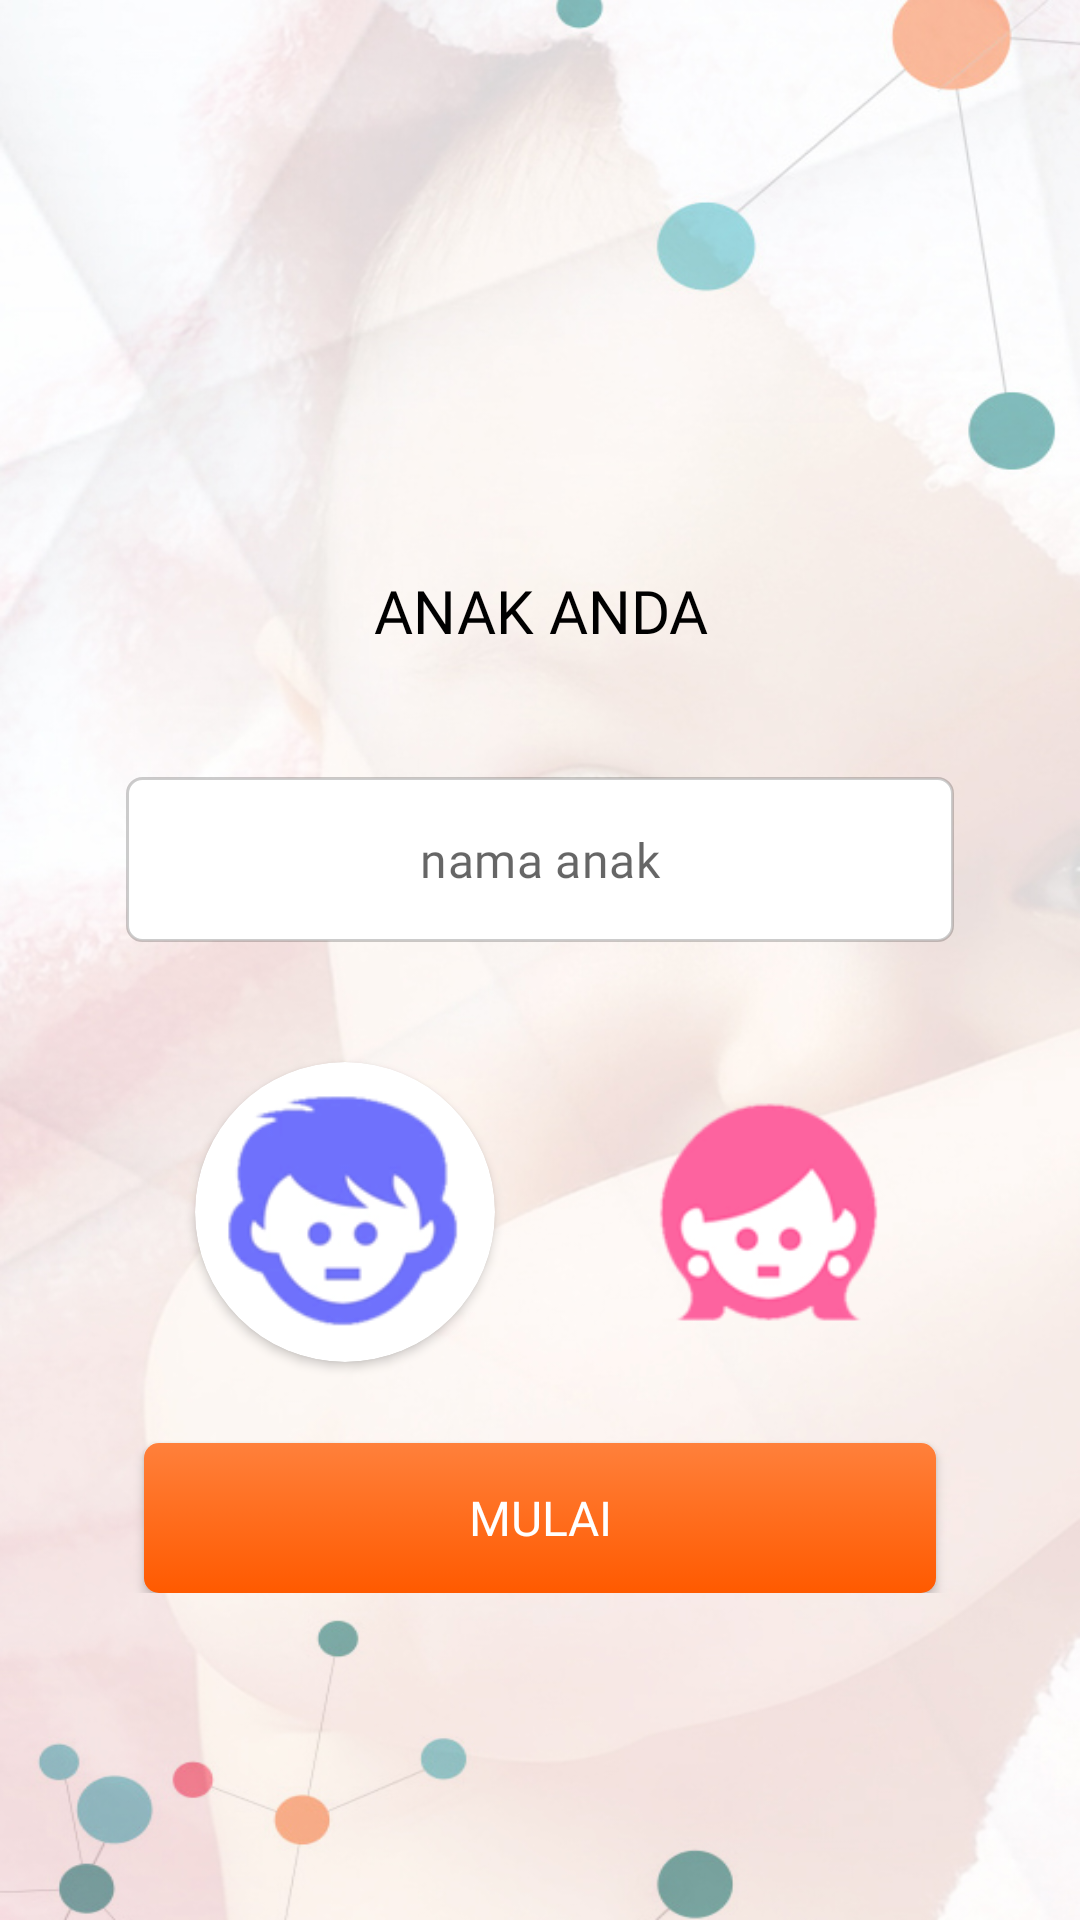

Named icons in this screenshot (1080px x 1920px) and their centers, point (x, y):
girl: point (765, 1199)
